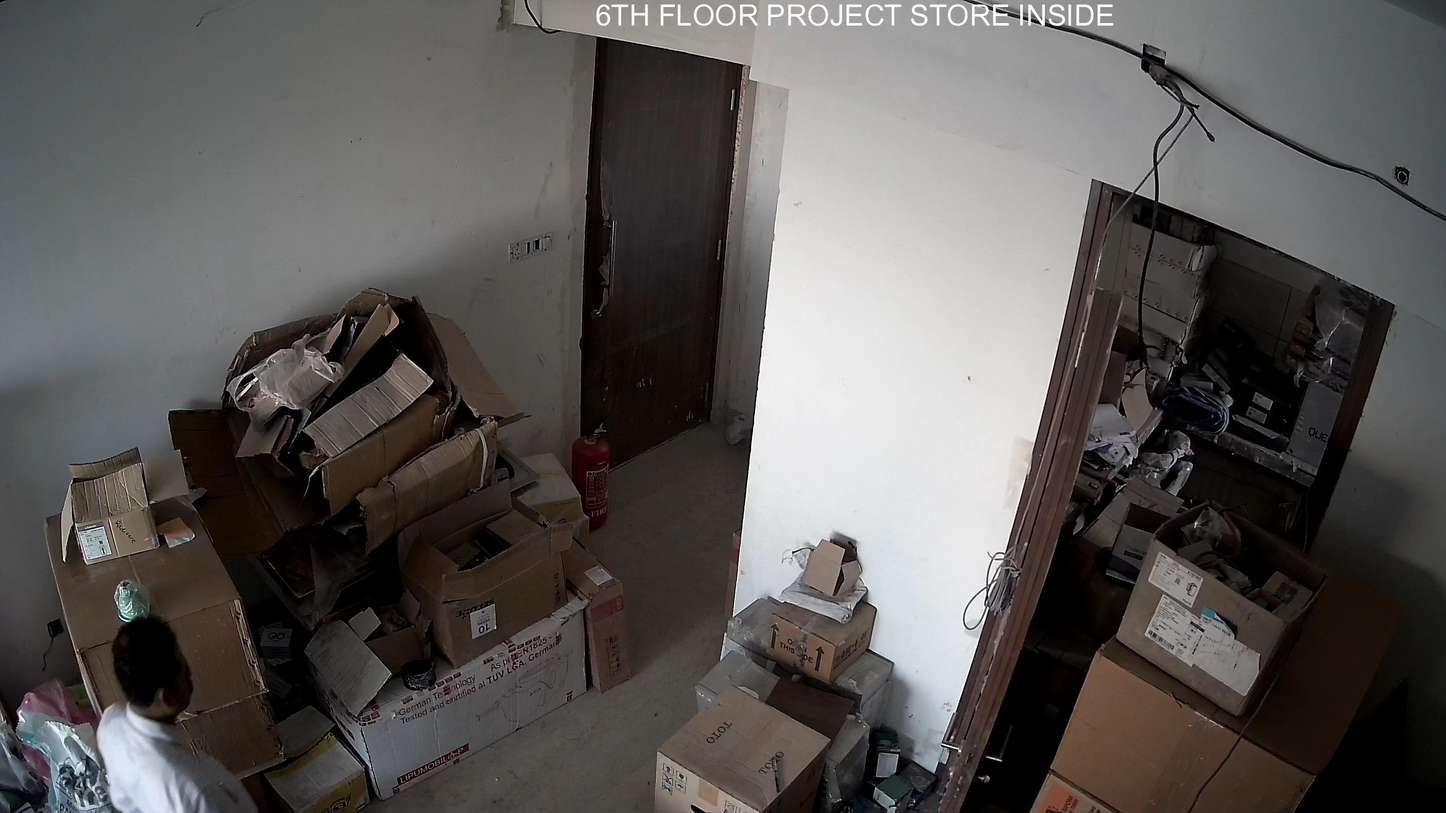Door-Close: (570, 28, 758, 478)
